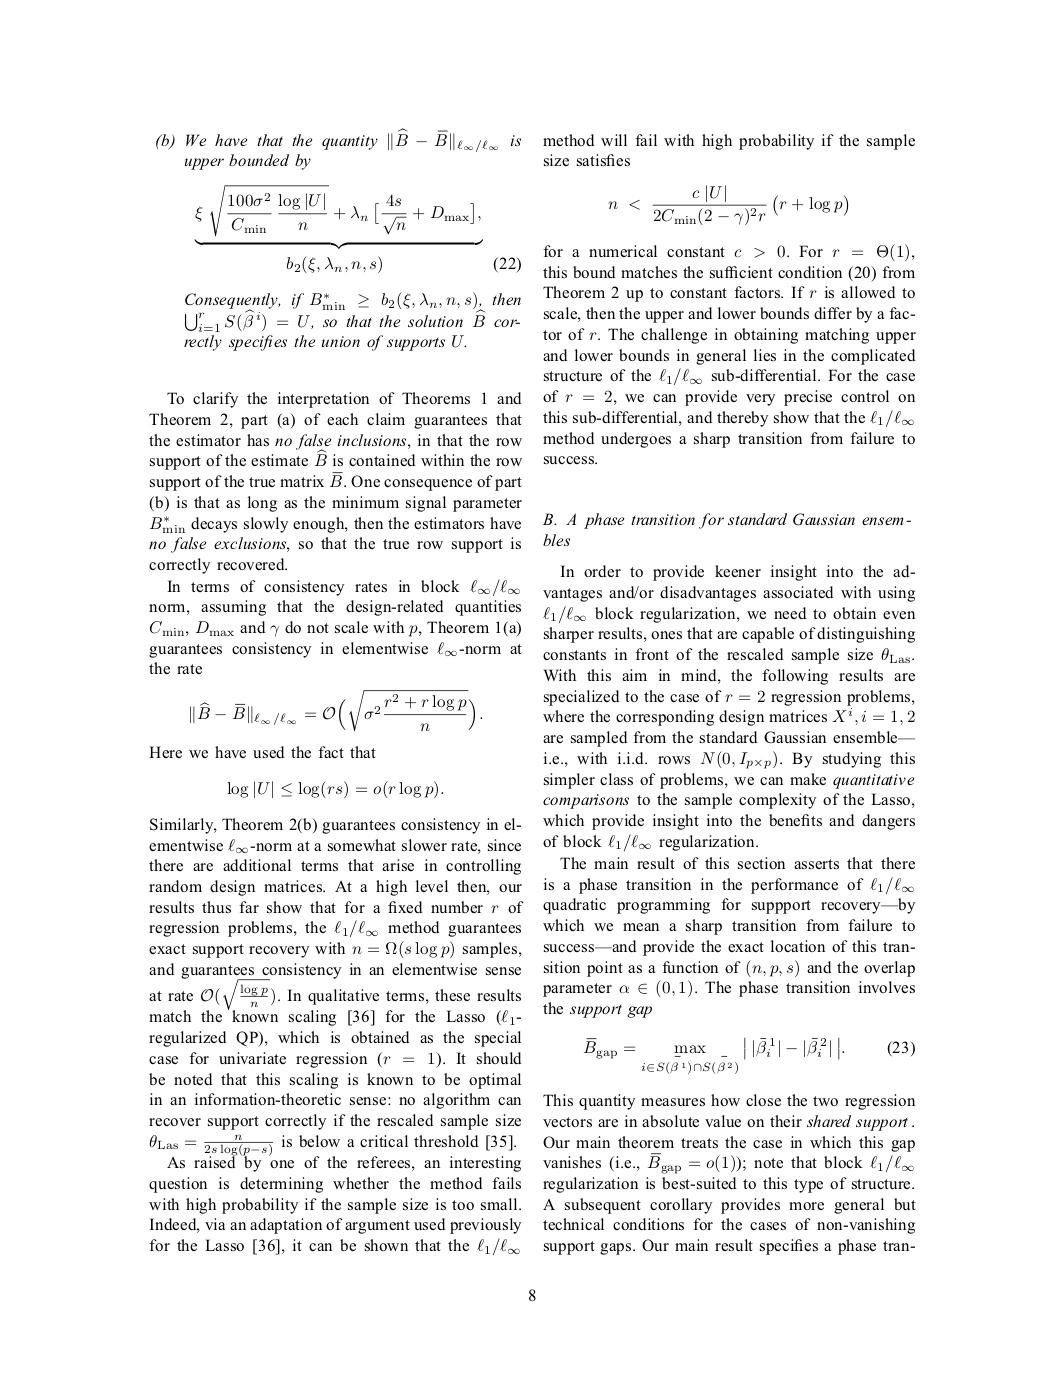formula: (194, 185, 520, 273), (189, 689, 481, 732), (583, 1036, 914, 1074), (609, 184, 848, 226), (227, 780, 442, 799)
